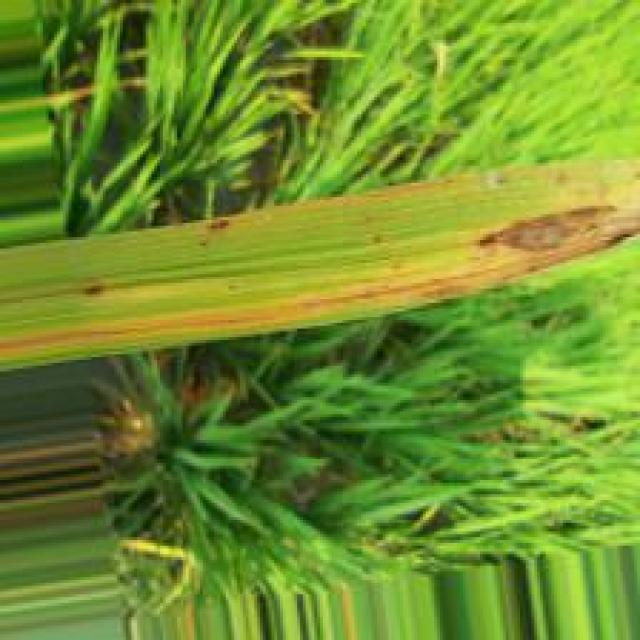Rice Tungro: (509, 211, 640, 284), (474, 203, 631, 257)
